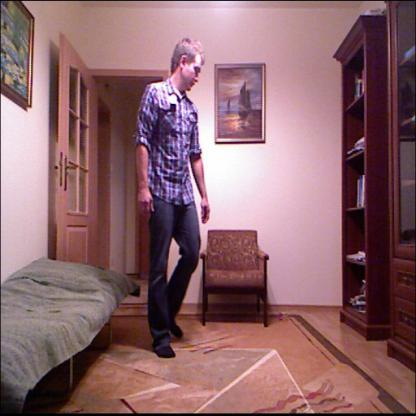normal: (139, 27, 211, 364)
